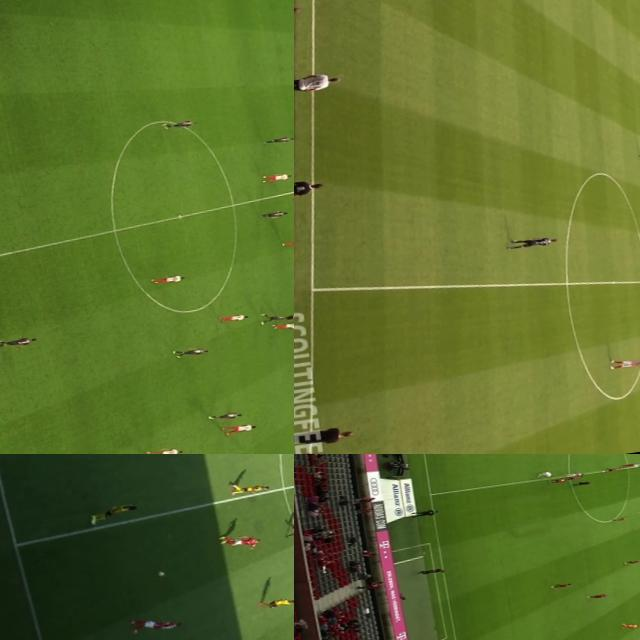ball: (154, 570, 167, 580), (600, 469, 605, 474)
player: (126, 612, 184, 638), (212, 529, 264, 556), (84, 502, 140, 526), (225, 478, 273, 499), (504, 234, 558, 252), (0, 335, 40, 350), (256, 596, 294, 611), (148, 272, 186, 286), (607, 354, 640, 370), (170, 346, 210, 359), (204, 410, 244, 423), (220, 424, 260, 437), (160, 118, 198, 131), (256, 171, 292, 184), (258, 311, 290, 325), (218, 313, 250, 325), (262, 134, 294, 146), (258, 210, 290, 221), (146, 446, 186, 454), (272, 321, 294, 331), (618, 621, 639, 631), (548, 582, 572, 590), (584, 593, 608, 601), (535, 470, 553, 480), (564, 473, 584, 482), (622, 461, 640, 470), (599, 467, 621, 474), (616, 462, 636, 469), (621, 559, 640, 566), (281, 238, 294, 248), (610, 516, 628, 522), (548, 478, 566, 484), (564, 472, 582, 478), (636, 509, 640, 517)
